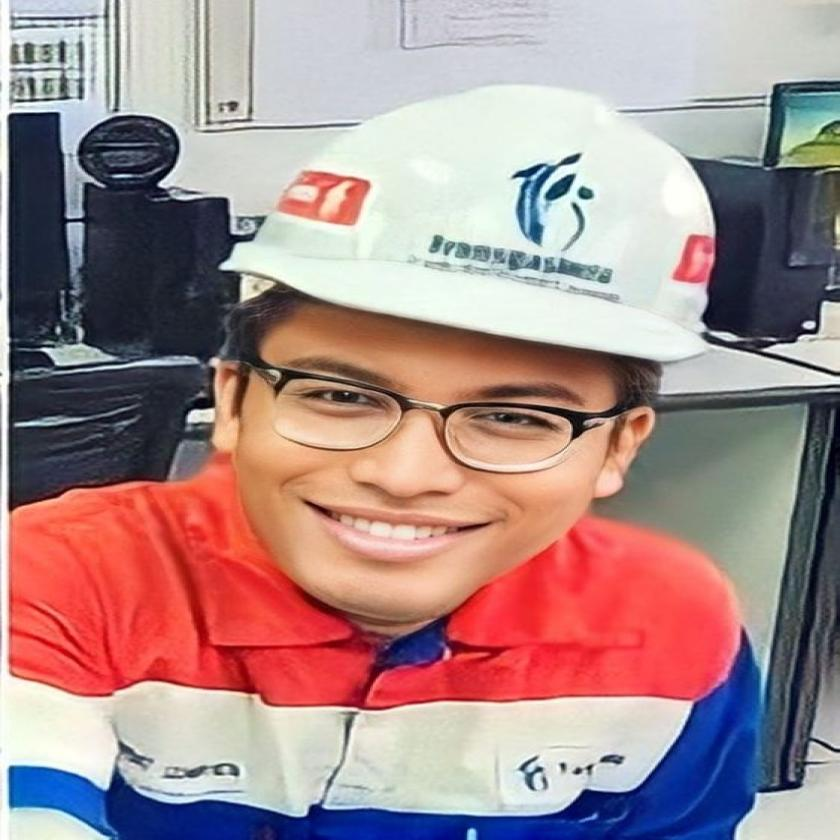Con_casco: (210, 85, 724, 668)
